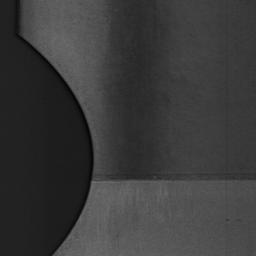Crescent gap: (23, 36, 95, 256)
